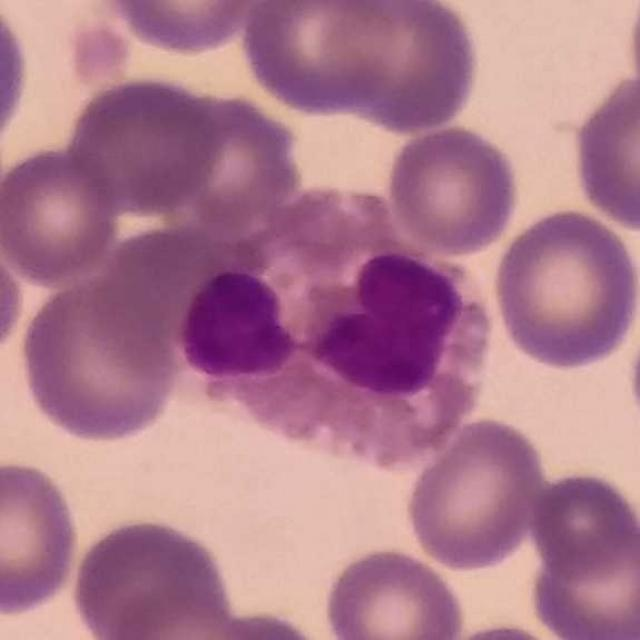Eosinophil: (181, 186, 484, 464)
Platelets: (59, 22, 138, 88)
RBC: (16, 273, 182, 446), (488, 204, 640, 373), (62, 71, 226, 217), (402, 414, 551, 573), (67, 512, 236, 640), (159, 98, 303, 234), (383, 122, 523, 258), (340, 0, 482, 134), (0, 142, 124, 288), (241, 0, 402, 111), (525, 463, 640, 591), (320, 543, 468, 640), (0, 454, 82, 618), (526, 525, 640, 639), (567, 67, 640, 234), (111, 0, 254, 49), (96, 599, 246, 640), (0, 1, 33, 162), (0, 225, 28, 366), (206, 605, 306, 640), (430, 619, 571, 640)
